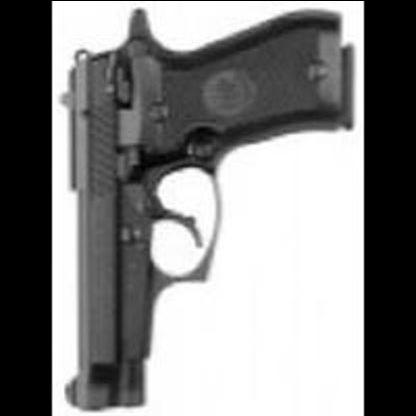weapon: (59, 7, 352, 411)
